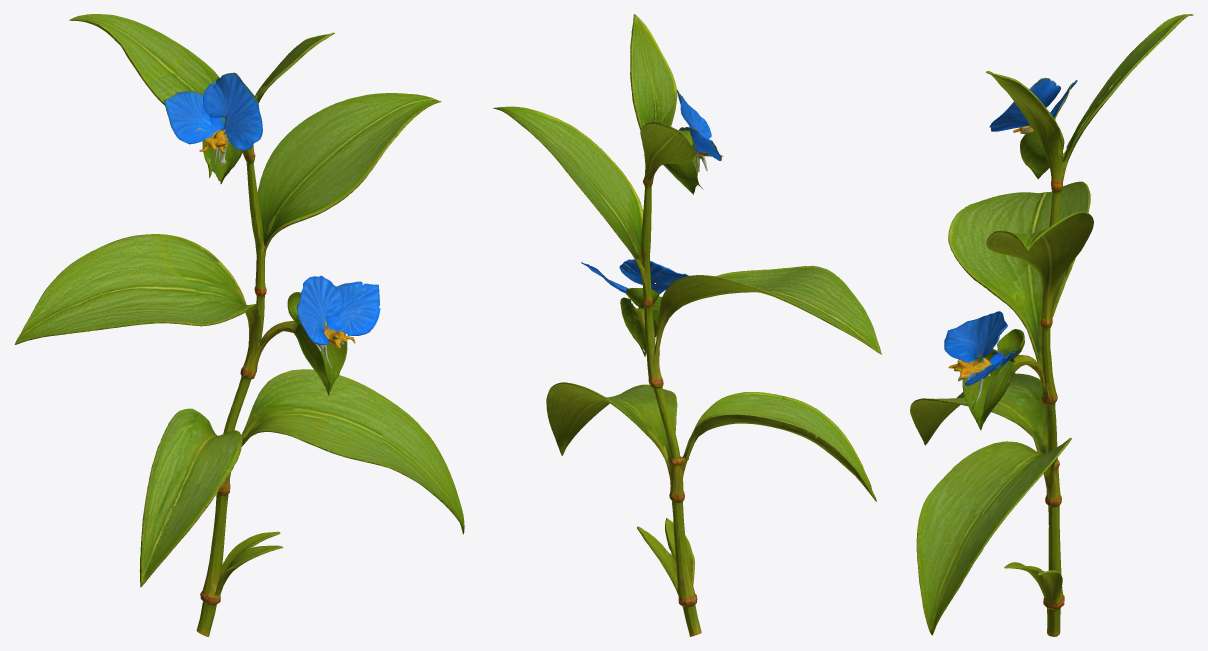
File: Dayflower.glb
3 renders of one model, left to right at view 1: azimuth 30°, elevation 25°; view 2: azimuth 150°, elevation 25°; view 3: azimuth 270°, elevation 25°, orthographic. The views are drawn at different scales.
Parts seen in each view (by area): view 1: Mesh_0; view 2: Mesh_0; view 3: Mesh_0.
Boxes of the visible parts, x1,y1,x2,y2 form: Mesh_0: [14, 14, 464, 636]; Mesh_0: [493, 14, 881, 636]; Mesh_0: [910, 14, 1193, 636].
Bounding box in the file's own units: 0.7229 × 1 × 0.4211.
1 material, 1 textured.
